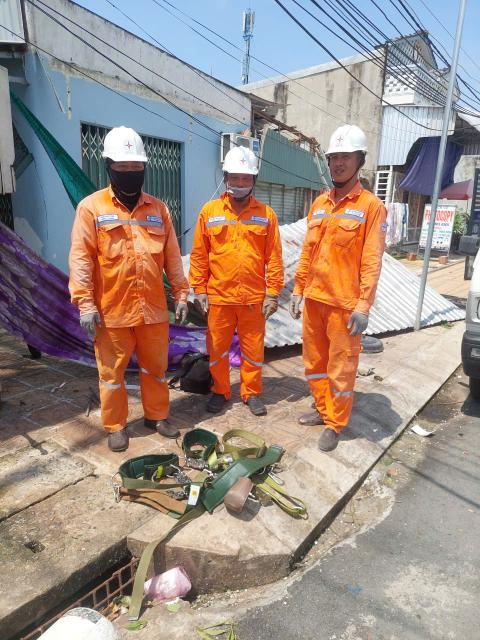gloves: (65, 300, 119, 336), (339, 308, 377, 345), (255, 285, 281, 325), (170, 302, 196, 333), (290, 281, 308, 324), (191, 290, 215, 322)
helmet: (323, 111, 378, 168), (106, 125, 157, 176), (221, 141, 268, 182)
shoes: (96, 416, 141, 460), (303, 421, 347, 458), (143, 410, 186, 444), (235, 386, 277, 418), (199, 381, 229, 413), (296, 406, 334, 428)
